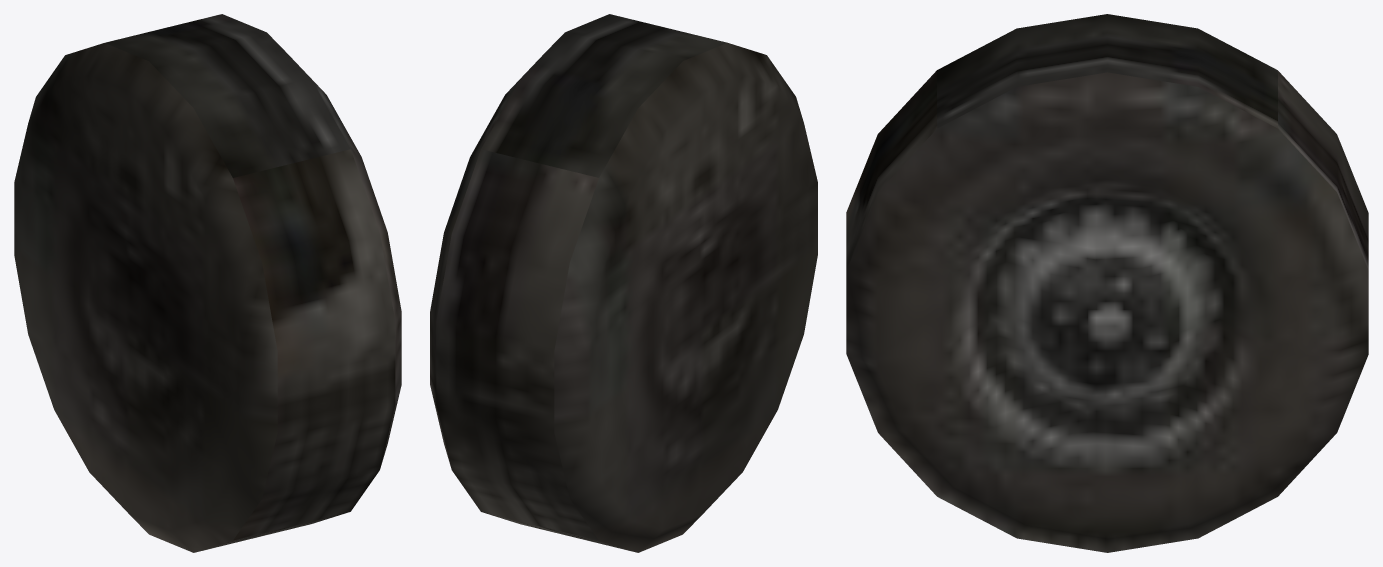
The model's file is ladaTire.obj.
3 views of the same model, side by side, from view 1: azimuth 30°, elevation 25°; view 2: azimuth 150°, elevation 25°; view 3: azimuth 270°, elevation 25° (orthographic).
Visible parts, largest first — view 1: Object001_Untitled; view 2: Object001_Untitled; view 3: Object001_Untitled.
Part boxes in pixels (x1,y1,x2,y2): Object001_Untitled: (14,14,401,552); Object001_Untitled: (430,14,817,552); Object001_Untitled: (846,14,1368,552).
Size of the model in its own units: 0.5004 by 1.38 by 1.36.
